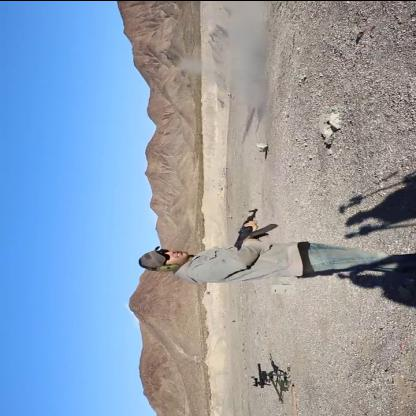long weapon: (233, 194, 274, 256), (236, 356, 292, 395)
